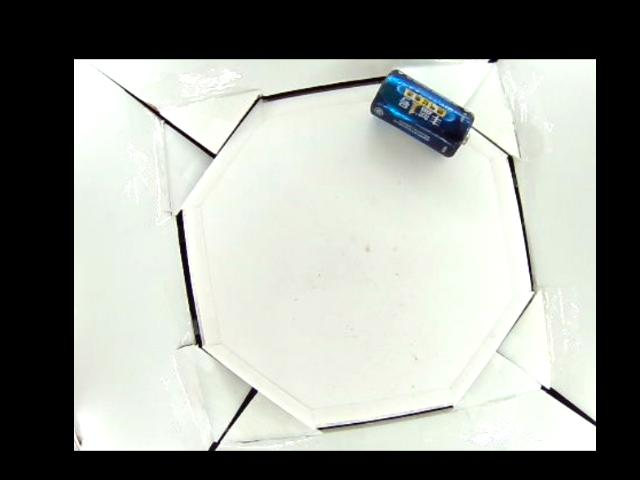Battery: (368, 70, 474, 155)
